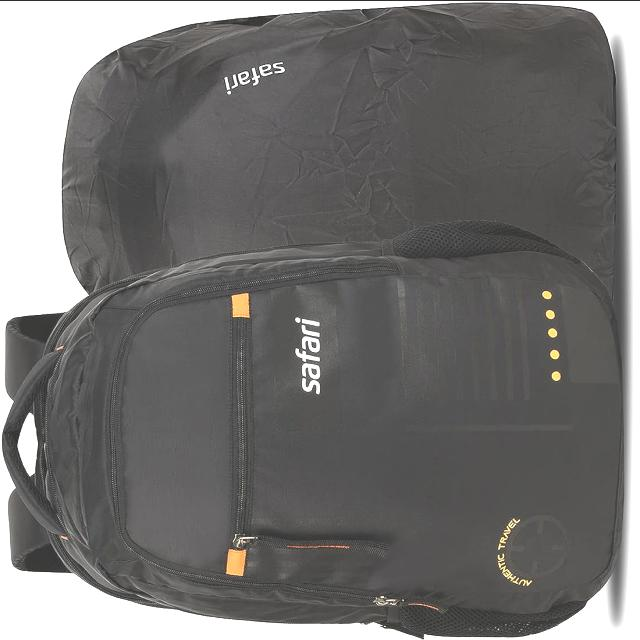backpack: (3, 5, 625, 640)
